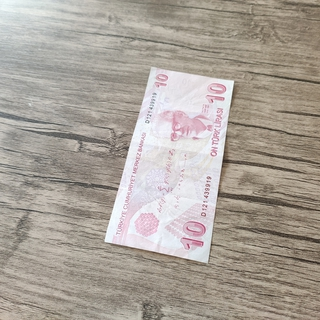10TLBack: (102, 65, 235, 264)
